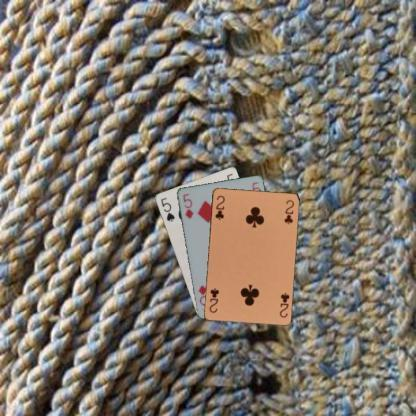2c: (212, 192, 226, 221), (276, 289, 290, 318)
5d: (180, 191, 195, 220)
5s: (158, 195, 176, 223)
